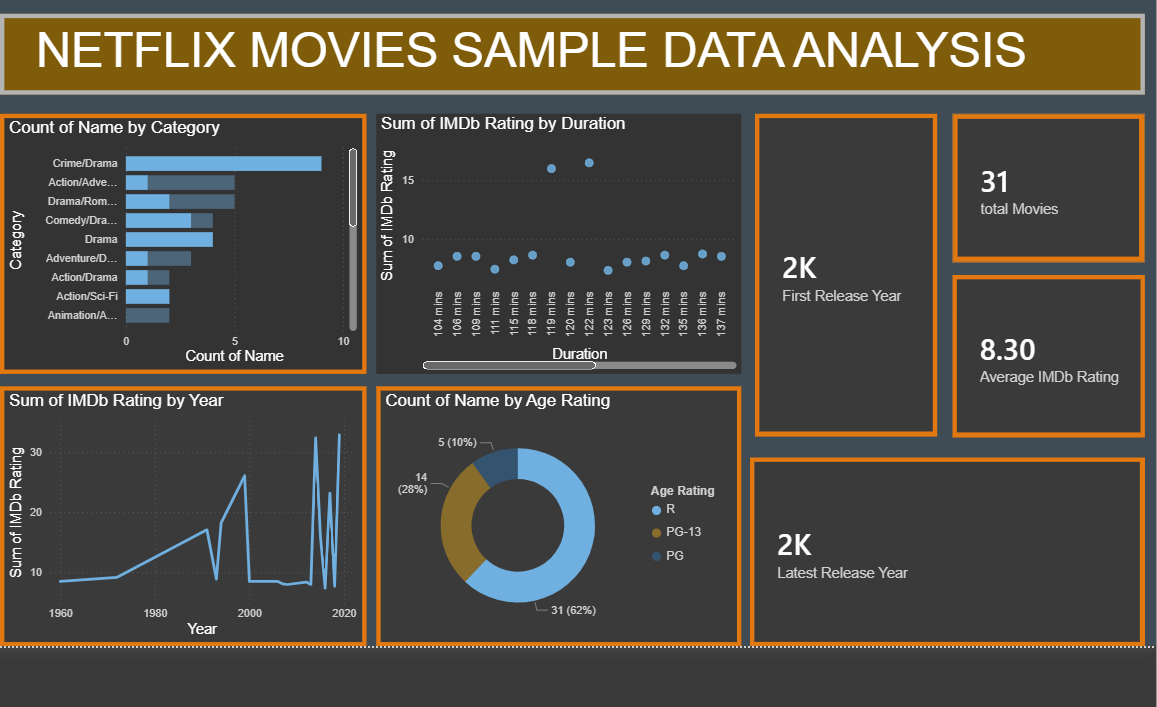

The page's visual inventory and layout, read from the dashboard file:
{"tool":"powerbi","page":{"name":"Page 1","canvas":[1280,720],"ordinal":0},"visuals":[{"type":"barChart","fields":{"Category":["Movies.Category"],"Y":["CountNonNull(Movies.Name)"]},"box":[11,135.8,402.1,285.4],"z":0},{"type":"lineChart","fields":{"Category":["Movies.Year"],"Y":["Sum(Movies.IMDb Rating)"]},"box":[11,435,402.1,285.4],"z":1},{"type":"scatterChart","fields":{"X":["Movies.Duration"],"Y":["Sum(Movies.IMDb Rating)"]},"box":[424,135.8,400.7,285.4],"z":2},{"type":"donutChart","fields":{"Category":["Movies.Age Rating"],"Y":["CountNonNull(Movies.Name)"]},"box":[424,435,400.7,285.4],"z":3},{"type":"cardVisual","fields":{"Data":["Movies.total Movies"]},"box":[1056.6,135.8,211.3,163.3],"z":4},{"type":"cardVisual","fields":{"Data":["Movies.Average IMDb Rating"]},"box":[1056.6,312.9,211.3,178.4],"z":5},{"type":"cardVisual","fields":{"Data":["Movies.First Release Year"]},"box":[839.8,135.8,200.3,354],"z":6},{"type":"cardVisual","fields":{"Data":["Movies.Latest Release Year"]},"box":[834.3,513.2,433.6,207.2],"z":7},{"type":"textbox","box":[11,26.1,1257,89.2],"z":8}]}

Visuals, with their boxes in screenshot pixels (x1, y1, x2, y2):
barChart - Movies.Category x CountNonNull(Movies.Name): locate(0, 110, 355, 374)
lineChart - Movies.Year x Sum(Movies.IMDb Rating): locate(0, 387, 355, 651)
scatterChart - Movies.Duration x Sum(Movies.IMDb Rating): locate(365, 110, 735, 374)
donutChart - Movies.Age Rating x CountNonNull(Movies.Name): locate(365, 387, 735, 651)
cardVisual - Movies.total Movies: locate(949, 110, 1145, 261)
cardVisual - Movies.Average IMDb Rating: locate(949, 274, 1145, 439)
cardVisual - Movies.First Release Year: locate(749, 110, 934, 438)
cardVisual - Movies.Latest Release Year: locate(744, 459, 1145, 651)
textbox: locate(0, 9, 1145, 91)
